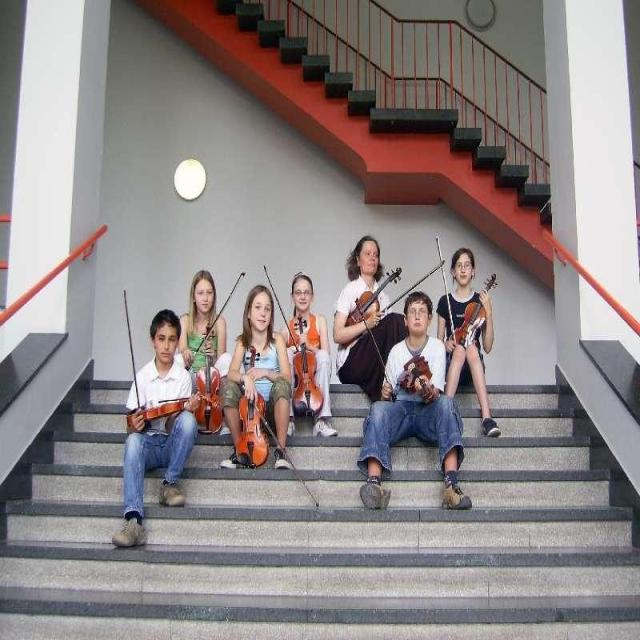violin: (342, 263, 402, 344), (235, 347, 270, 468), (449, 274, 499, 353), (285, 315, 323, 417), (192, 326, 225, 436), (398, 356, 438, 402), (126, 400, 192, 425)
